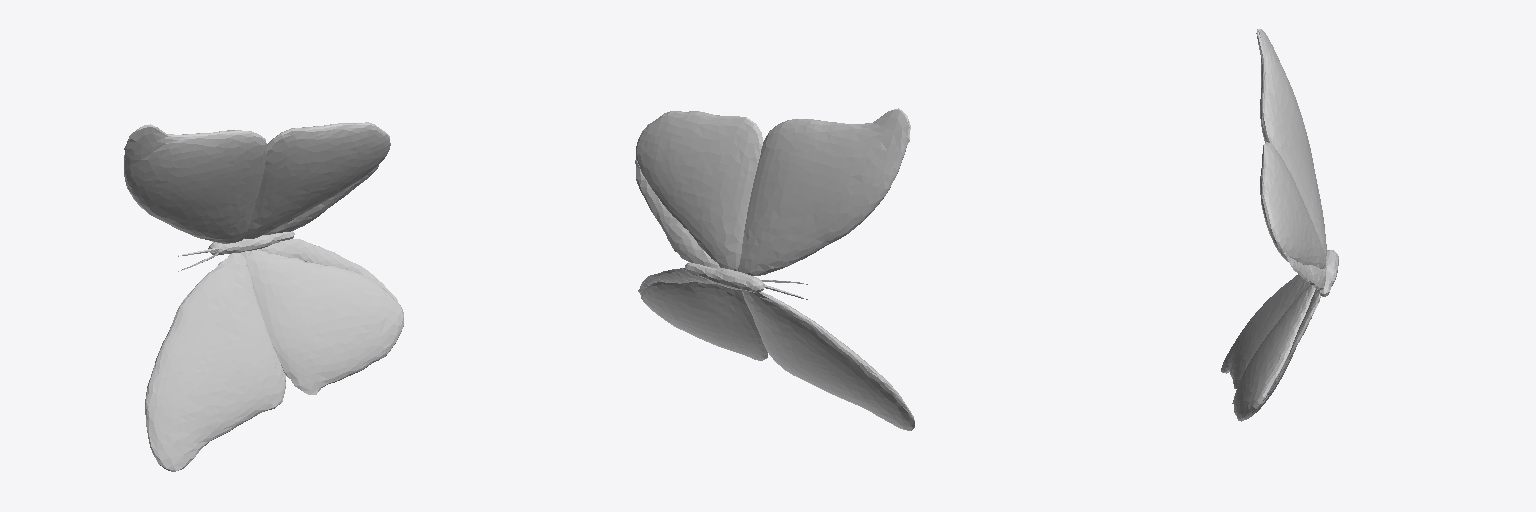
3 renders of one model, left to right at view 1: azimuth 30°, elevation 25°; view 2: azimuth 150°, elevation 25°; view 3: azimuth 270°, elevation 25°, orthographic.
Visible parts, largest first — view 1: model; view 2: model; view 3: model.
Part boxes in pixels (x1,y1,x2,y2): model: (124, 122, 403, 471); model: (635, 108, 914, 430); model: (1221, 29, 1338, 421).
Bounding box in the file's own units: 0.167 × 0.1966 × 0.0624.